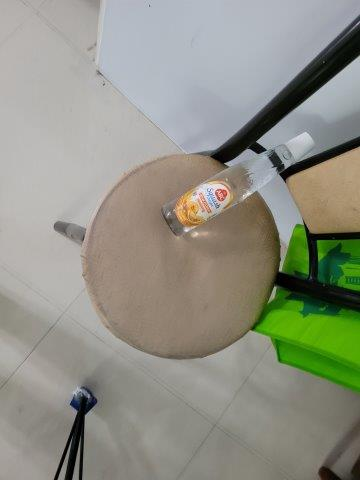botolkaca: (160, 133, 315, 237)
